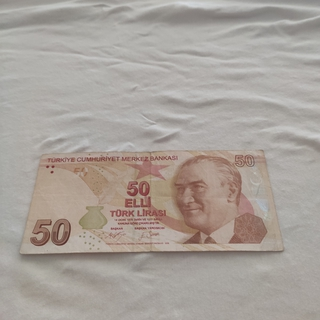50TLFront: (19, 149, 284, 255)
